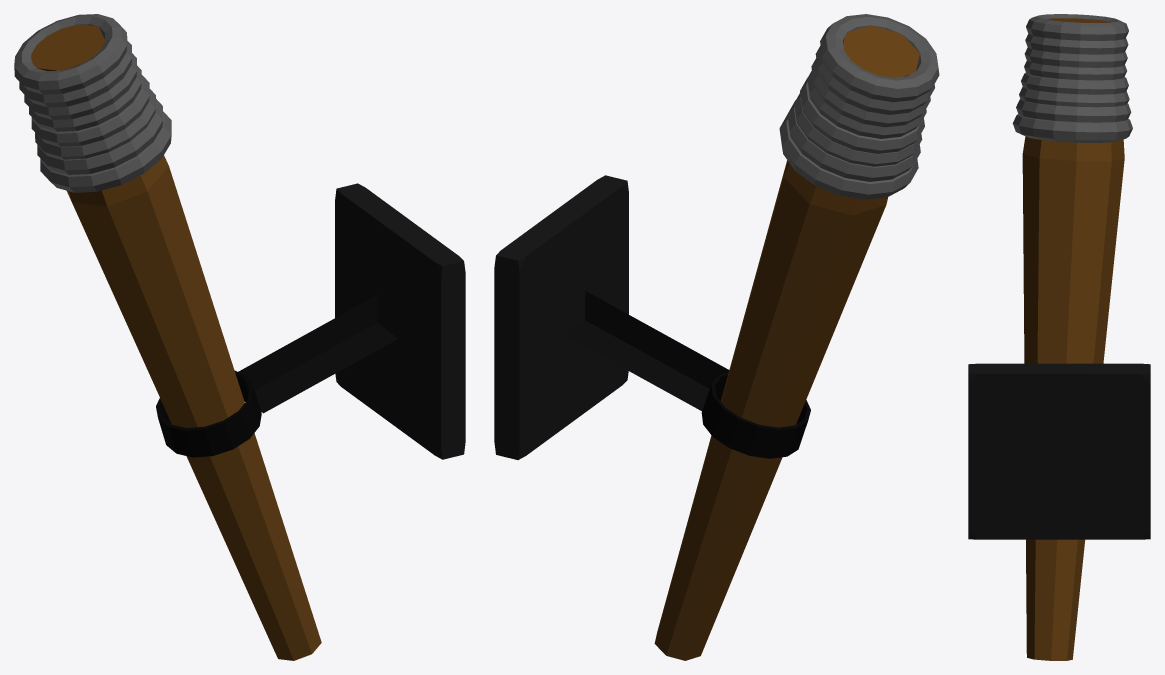
File: Torch.fbx
The picture shows the model from 3 angles, left to right: view 1: azimuth 30°, elevation 25°; view 2: azimuth 150°, elevation 25°; view 3: azimuth 270°, elevation 25°; orthographic projection. The views are drawn at different scales.
Parts seen in each view (by area): view 1: Torch, torchHead; view 2: Torch, torchHead; view 3: Torch, torchHead.
Boxes of the visible parts, x1=… form: Torch: x1=31, y1=24, x2=465, y2=660; torchHead: x1=14, y1=14, x2=171, y2=192; Torch: x1=494, y1=25, x2=919, y2=660; torchHead: x1=779, y1=14, x2=939, y2=199; Torch: x1=968, y1=18, x2=1150, y2=660; torchHead: x1=1012, y1=14, x2=1132, y2=142.
Size of the model in its own units: 35.47 by 59.09 by 17.14.
